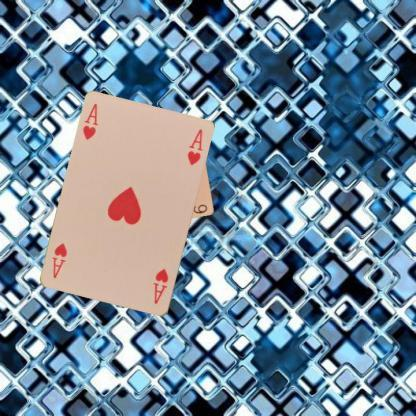Ah: (80, 101, 100, 142), (151, 266, 170, 306)
